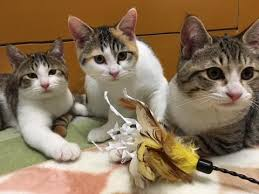cat: (169, 13, 259, 162), (66, 10, 168, 118), (2, 40, 86, 163)
